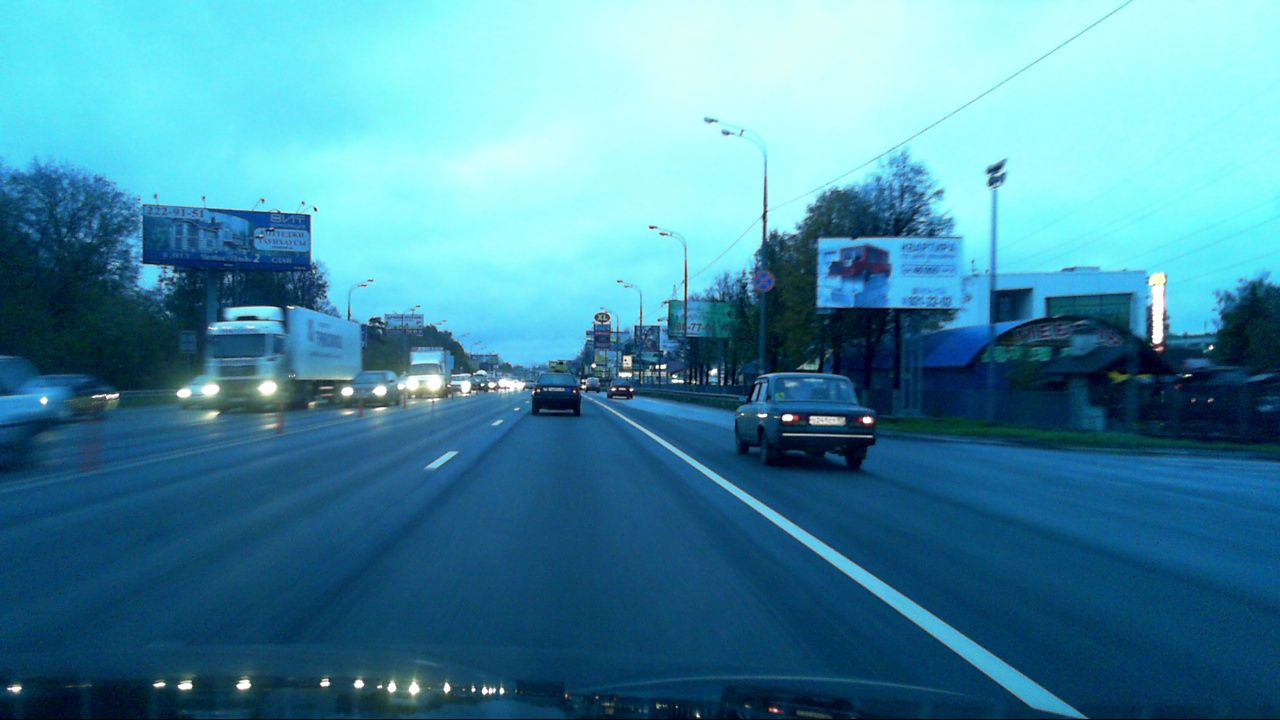No Parking: (753, 271, 775, 291)
